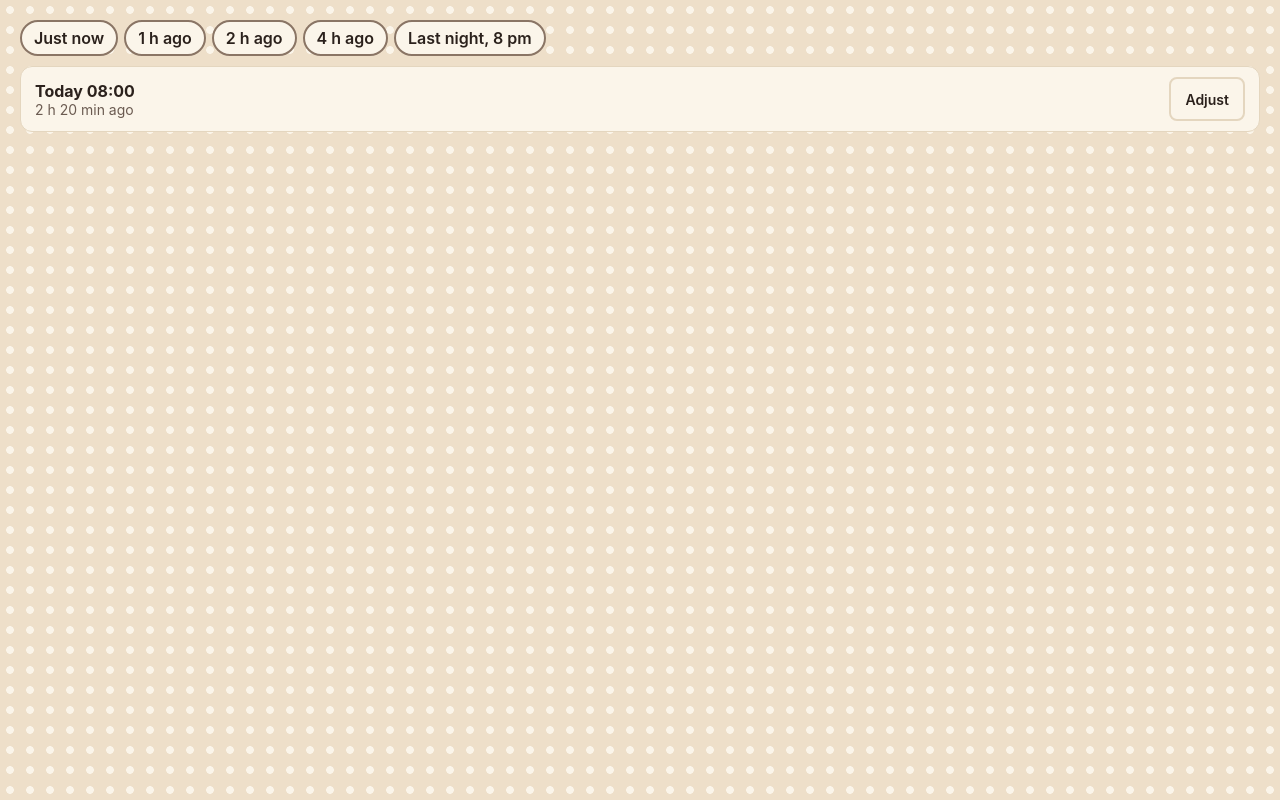
Test: feed time picker › opens the phone's own time wheel on a touch screen, and takes the latest time that matches
Step 1. Click the button "Adjust" → (1207, 99), box [1169,77,1245,121]
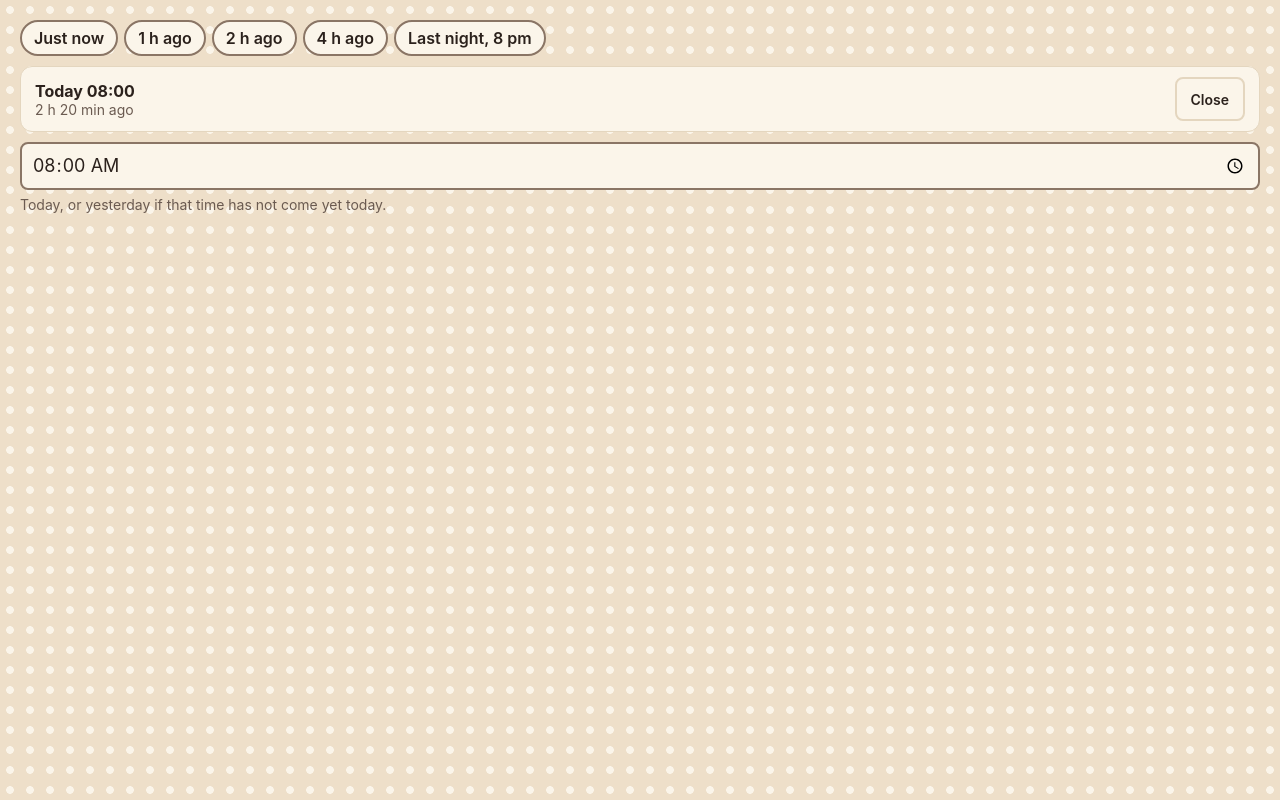
Result: the time field named "Time you fed your starter" holds "08:00"
Step 2. Replace the text in the time field named "Time you fed your starter" with "07:40" → (640, 166), box [20,142,1260,190]
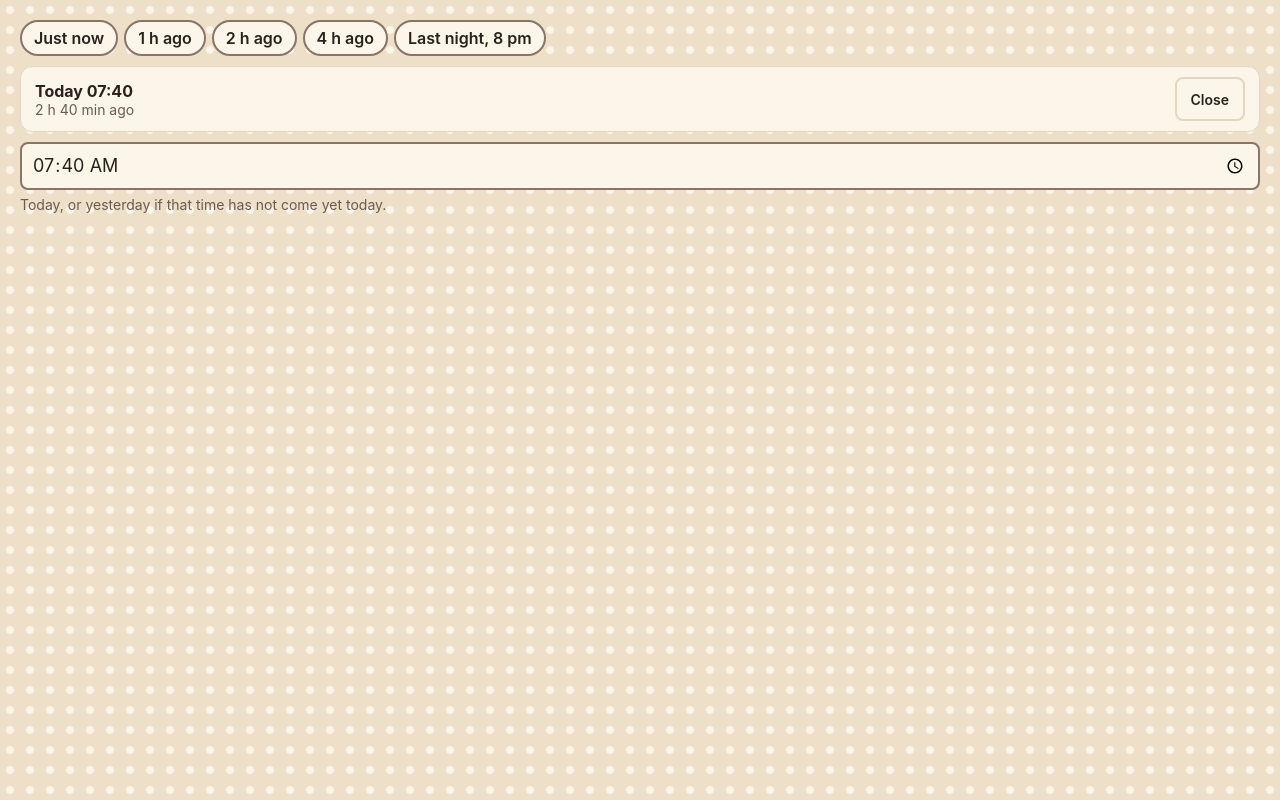
Result: the message shows "Today 07:40" at [20,66,1260,132]
Step 3. Replace the text in the time field named "Time you fed your starter" with "20:30" → (640, 166), box [20,142,1260,190]
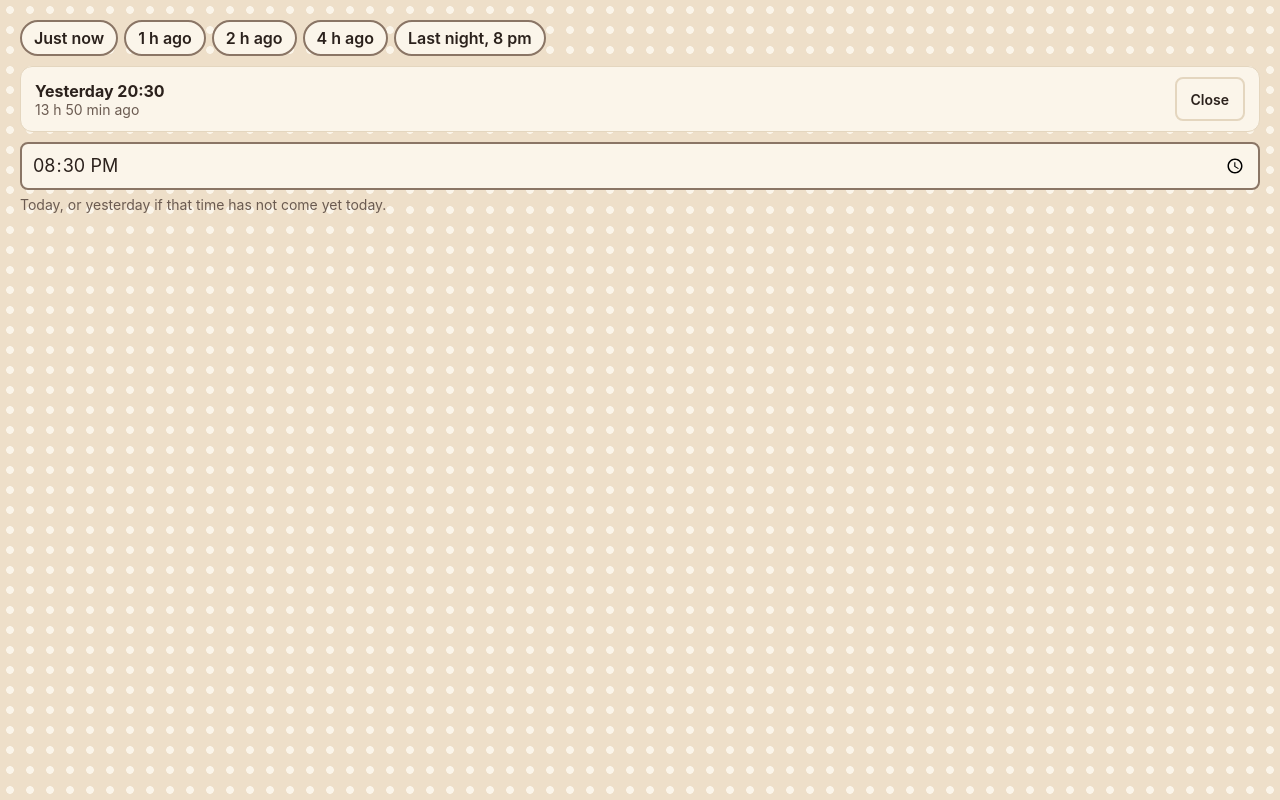
Result: the message shows "Yesterday 20:30" at [20,66,1260,132]
